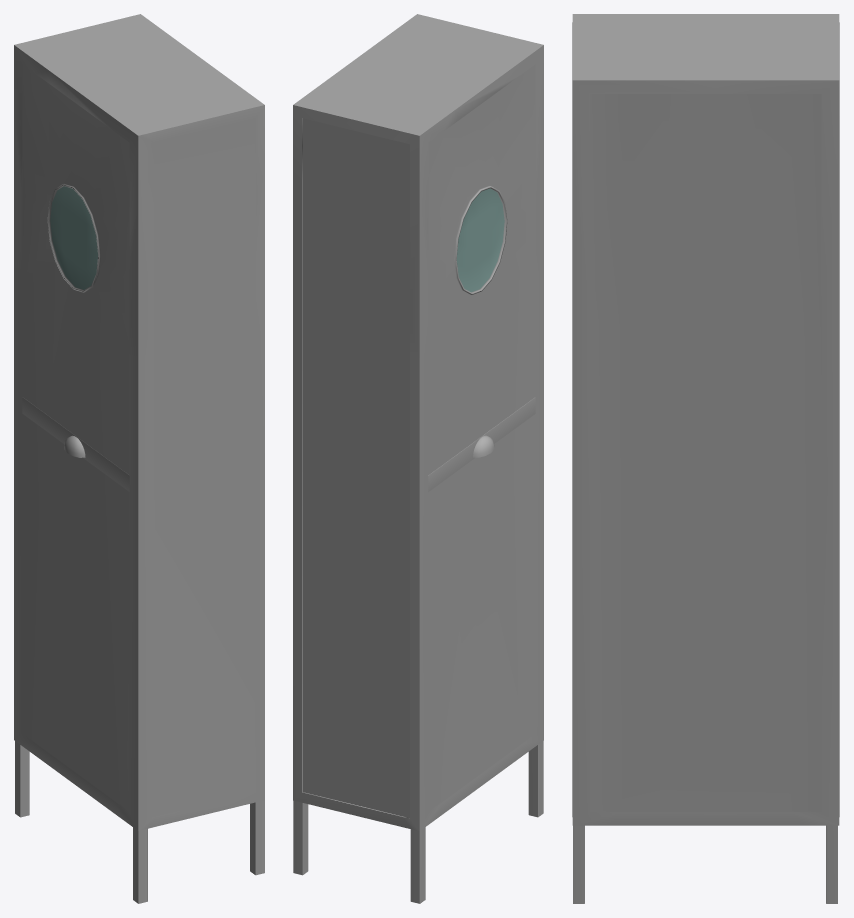
Rendered from meuble_chambre02_SM.fbx.
3 views of the same model, side by side, from view 1: azimuth 30°, elevation 25°; view 2: azimuth 150°, elevation 25°; view 3: azimuth 270°, elevation 25° (orthographic). The views are drawn at different scales.
Visible parts, largest first — view 1: meuble_chambre2_SM; view 2: meuble_chambre2_SM; view 3: meuble_chambre2_SM.
Part boxes in pixels (left/top/right/bottom): meuble_chambre2_SM: left=14, top=14, right=264, bottom=903; meuble_chambre2_SM: left=293, top=14, right=543, bottom=903; meuble_chambre2_SM: left=572, top=14, right=839, bottom=903.
Size of the model in its own units: 0.5202 by 2.81 by 0.8258.
